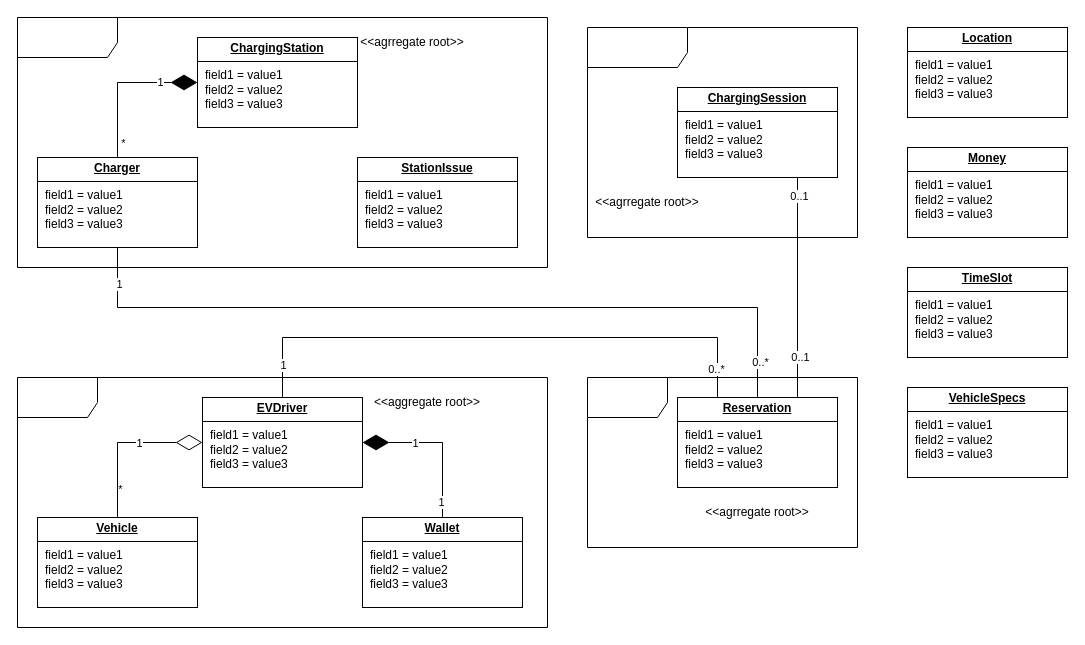
Some shapes in this 1085 by 645 pixel diagram are drawn without their labels. Here are the shapes that lost their labels. From the top down, the box of each, then its label:
(16, 16, 548, 268): ChargingStation Aggregate
(586, 26, 858, 238): ChargingSession Aggregate
(586, 376, 858, 548): Reservation Aggregate
(16, 376, 548, 628): EVDriver Aggregate
